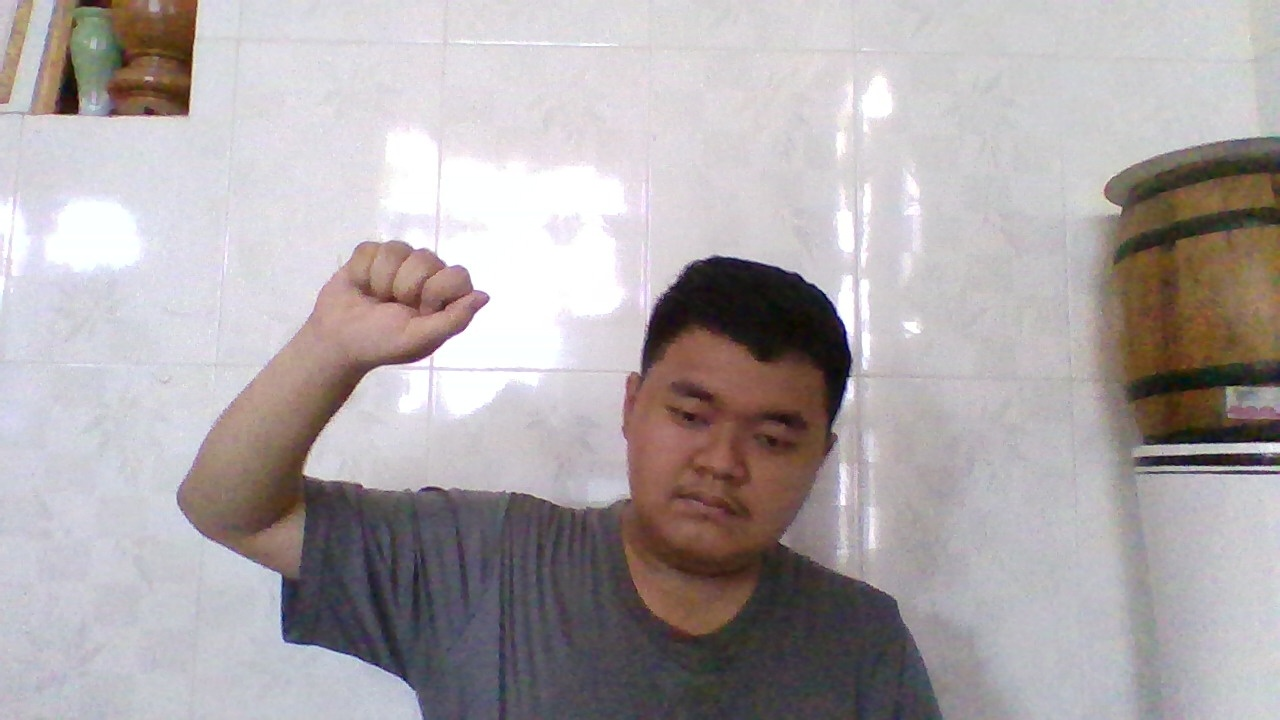A: (319, 232, 495, 367)
